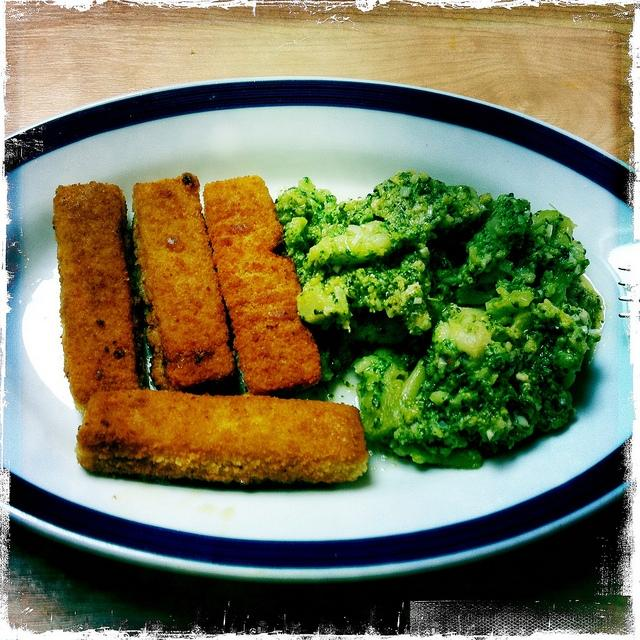broccoli: (416, 286, 578, 456), (351, 348, 470, 458), (456, 210, 577, 306), (434, 193, 532, 293), (342, 242, 432, 336), (368, 172, 454, 244), (426, 185, 494, 256), (296, 274, 353, 334), (538, 325, 590, 390), (275, 177, 337, 227), (316, 192, 378, 236), (533, 259, 582, 308), (296, 252, 325, 290)
